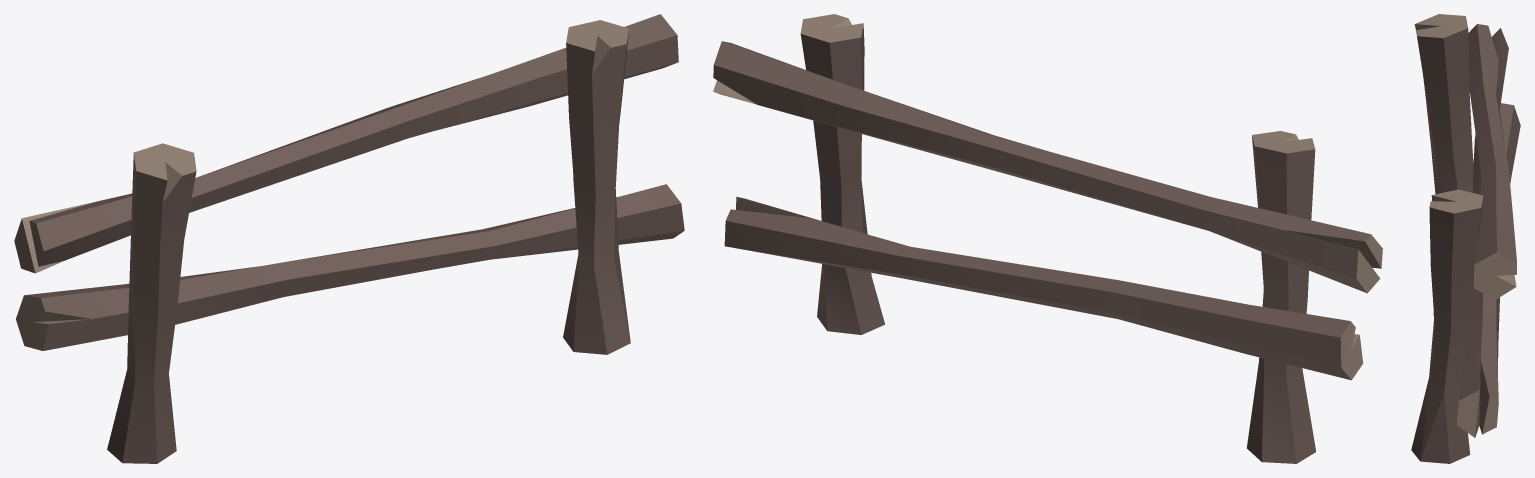
The model's file is fence.glb.
3 renders of one model, left to right at view 1: azimuth 30°, elevation 25°; view 2: azimuth 150°, elevation 25°; view 3: azimuth 270°, elevation 25°, orthographic. The views are drawn at different scales.
Visible parts, largest first — view 1: fence; view 2: fence; view 3: fence.
Part boxes in pixels (<box>): fence: <box>14,14,684,463</box>; fence: <box>713,14,1382,463</box>; fence: <box>1411,14,1520,463</box>.
Size of the model in its own units: 13.76 by 6.29 by 2.34.
Materials: 1 (1 with a texture image).
